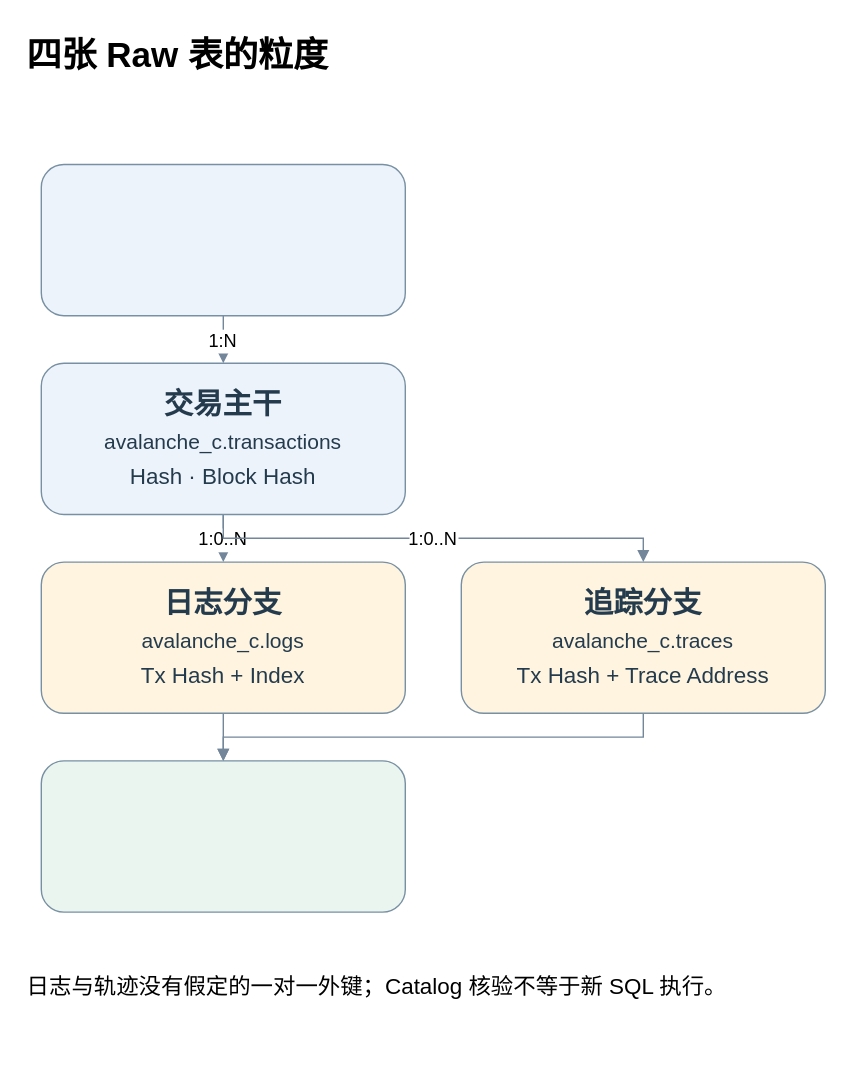
Some shapes in this 865 by 1085 pixel diagram are drawn without their labels. The box of each missing label's shape, as (x1, y1, x2, y2) in pixels:
先汇总再连接 Aggregate Then Join 防止明细组合放大: (40, 760, 405, 912)
区块主干 avalanche_c.blocks Hash · Number · Time: (40, 163, 405, 316)
